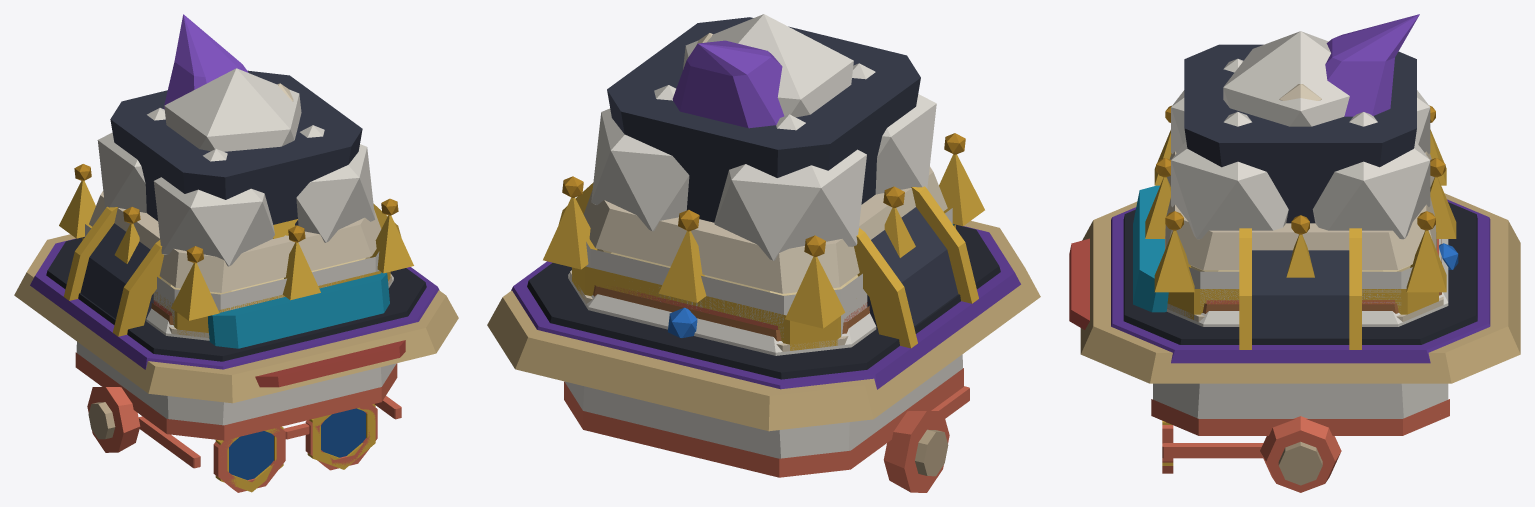
Rendered from hats.glb.
The picture shows the model from 3 angles, left to right: view 1: azimuth 30°, elevation 25°; view 2: azimuth 150°, elevation 25°; view 3: azimuth 270°, elevation 25°; orthographic projection. The views are drawn at different scales.
Visible parts, largest first — view 1: hat-chef, hat-tophat, hat-astronaut, hat-explorer, hat-wizard, hat-crown, hat-pirate, hat-sunglasses, hat-glasses, hat-cap; view 2: hat-chef, hat-tophat, hat-explorer, hat-astronaut, hat-wizard, hat-crown, hat-pirate, hat-cap; view 3: hat-chef, hat-tophat, hat-astronaut, hat-explorer, hat-wizard, hat-pirate, hat-crown, hat-cap, hat-glasses, hat-beanie.
Boxes of the visible parts, x1=… form: hat-chef: x1=85, y1=68, x2=381, y2=326; hat-tophat: x1=46, y1=70, x2=426, y2=361; hat-astronaut: x1=75, y1=272, x2=397, y2=452; hat-explorer: x1=14, y1=234, x2=458, y2=403; hat-wizard: x1=30, y1=14, x2=439, y2=369; hat-crown: x1=59, y1=164, x2=413, y2=337; hat-pirate: x1=63, y1=203, x2=401, y2=336; hat-sunglasses: x1=215, y1=404, x2=375, y2=492; hat-glasses: x1=138, y1=396, x2=401, y2=492; hat-cap: x1=153, y1=300, x2=405, y2=387; hat-chef: x1=583, y1=14, x2=952, y2=340; hat-tophat: x1=527, y1=17, x2=1000, y2=379; hat-explorer: x1=487, y1=221, x2=1040, y2=431; hat-astronaut: x1=564, y1=224, x2=963, y2=492; hat-wizard: x1=511, y1=40, x2=1020, y2=389; hat-crown: x1=543, y1=133, x2=984, y2=350; hat-pirate: x1=558, y1=183, x2=978, y2=348; hat-cap: x1=599, y1=286, x2=867, y2=329; hat-chef: x1=1165, y1=31, x2=1435, y2=313; hat-tophat: x1=1123, y1=44, x2=1477, y2=344; hat-astronaut: x1=1133, y1=185, x2=1449, y2=492; hat-explorer: x1=1080, y1=193, x2=1520, y2=383; hat-wizard: x1=1111, y1=14, x2=1490, y2=363; hat-pirate: x1=1239, y1=228, x2=1361, y2=349; hat-crown: x1=1145, y1=105, x2=1458, y2=319; hat-cap: x1=1069, y1=238, x2=1438, y2=329; hat-glasses: x1=1162, y1=425, x2=1263, y2=473; hat-beanie: x1=1167, y1=296, x2=1443, y2=321.
Size of the model in its own units: 1.28 by 1.51 by 1.44.
